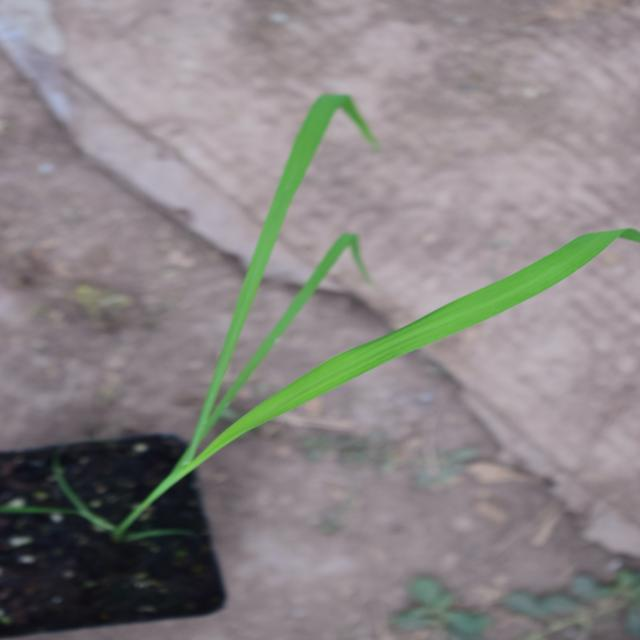barnyard_grass: (148, 155, 550, 605)
